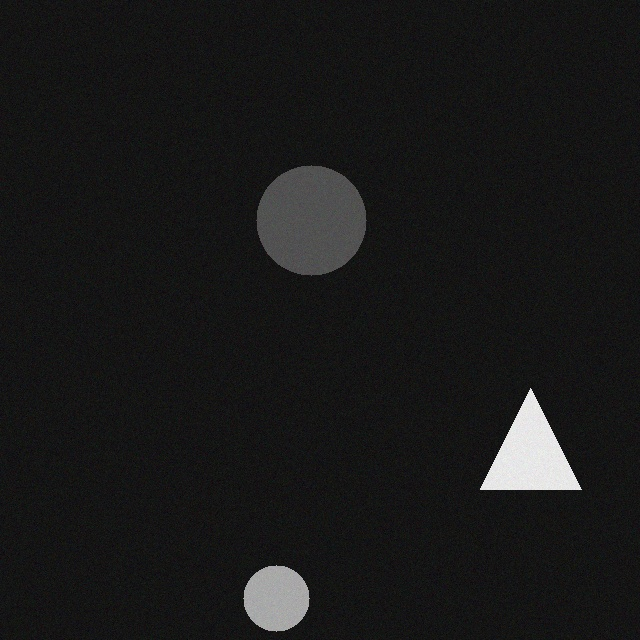circle: (251, 154, 361, 264), (238, 554, 304, 620)
triangle: (475, 377, 576, 478)
